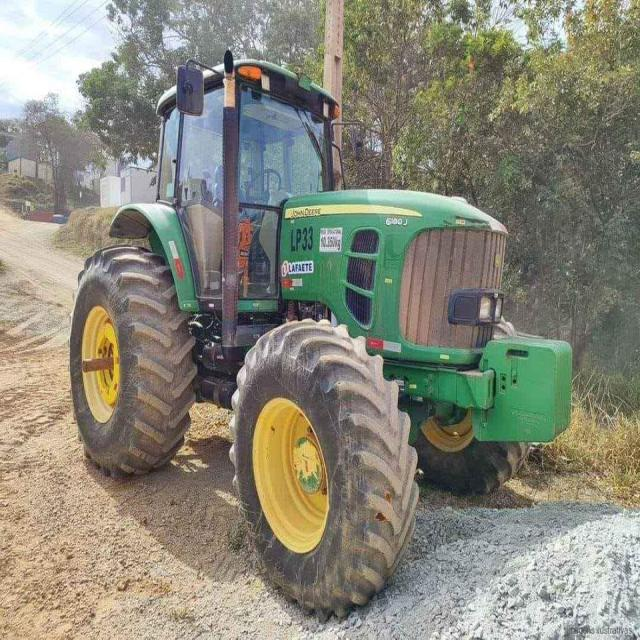Tratores - v5 YOLO V8L 2024-11-13: (67, 48, 575, 618)
